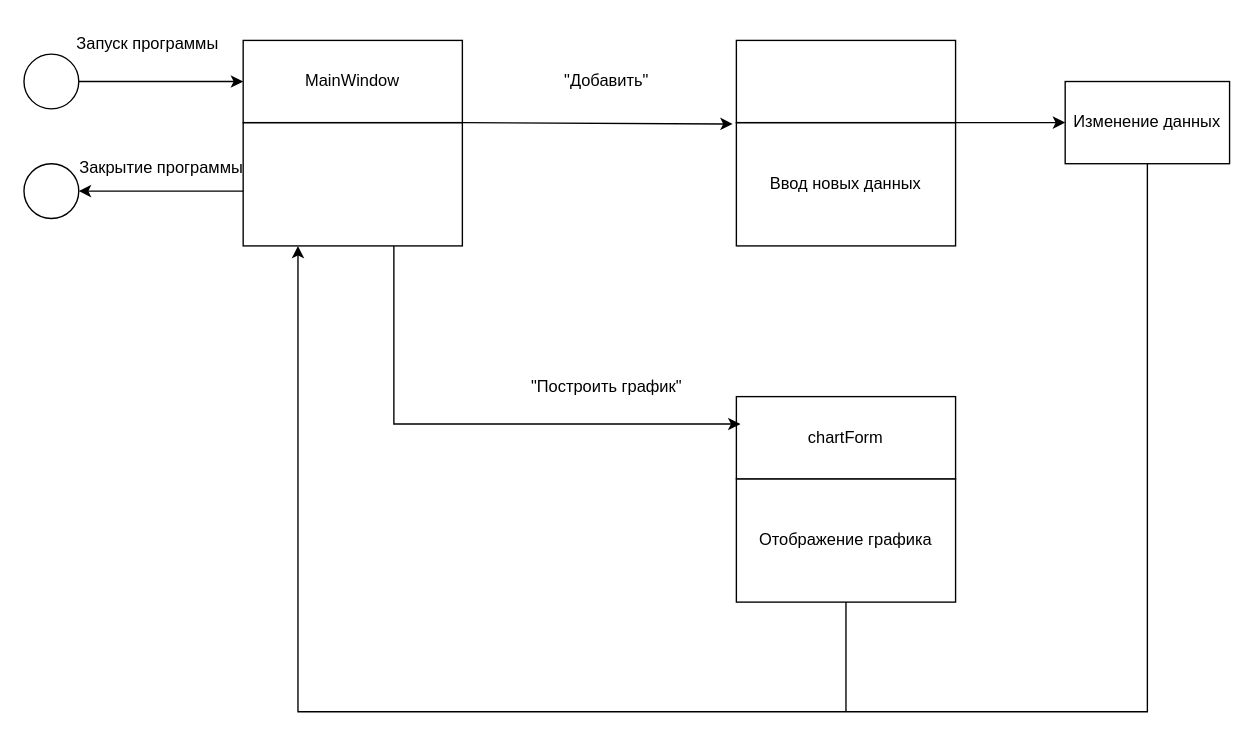
Some shapes in this 1254 by 747 pixel diagram are drawn without their labels. The centre of each missing label's shape, as x and y in pixels:
"addForm" goes at (845,81).
"Окно с базой данных и кнопками" goes at (352,183).
